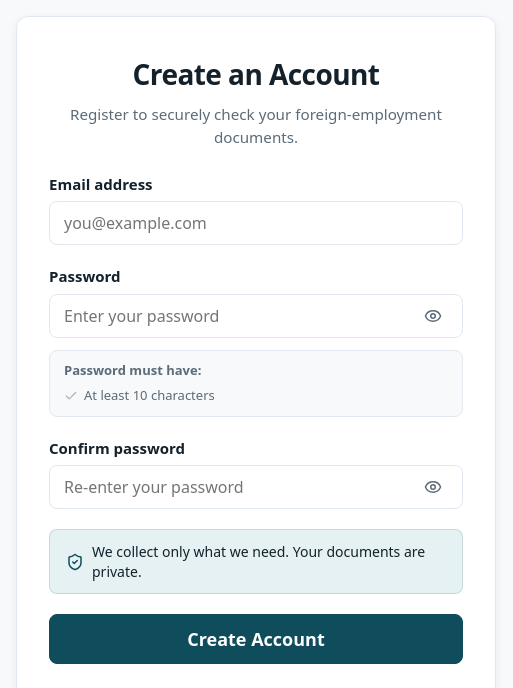
RegisterPage validation › shows an error when password is less than 10 characters
Type "applicant@example.com" into the field labelled "Email address" at (256, 223), box [49,201,463,245]
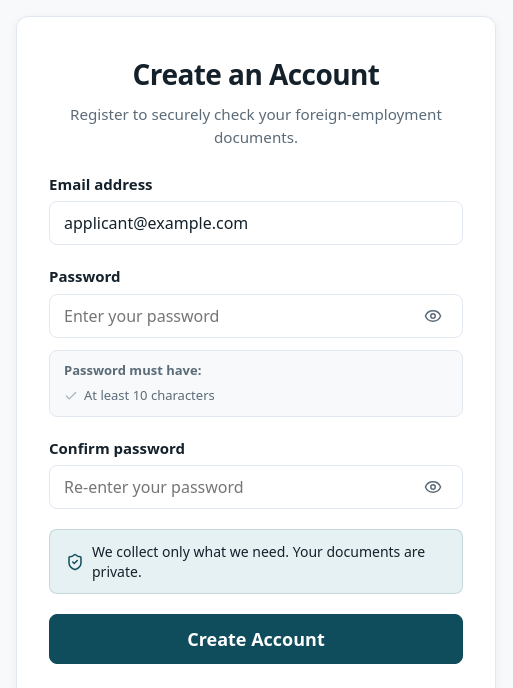
Type "short" into the password field labelled "Password" at (256, 316), box [49,294,463,338]
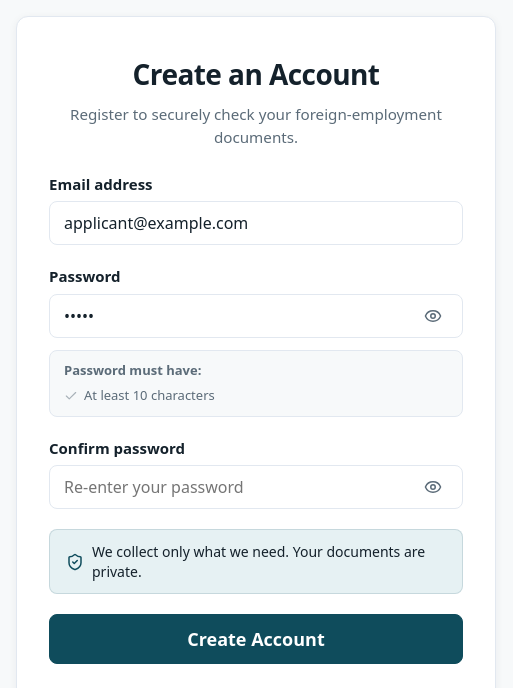
Type "short" into the password field labelled "Confirm password" at (256, 487), box [49,465,463,509]
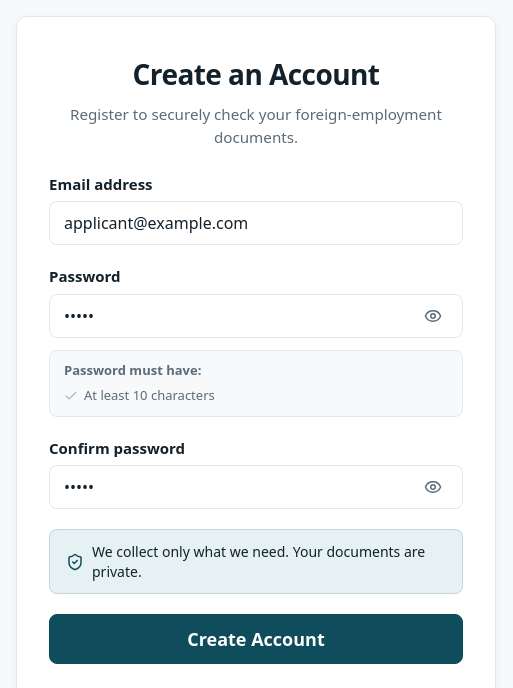
Click the button "Create Account" at (256, 639), box [49,614,463,664]
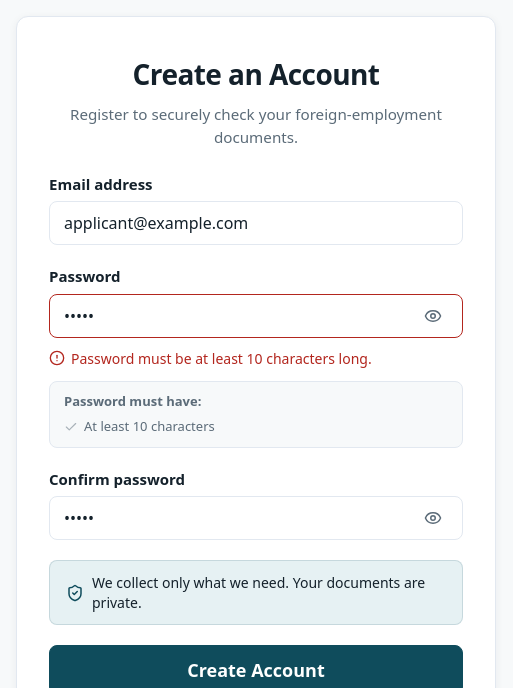
Expected: the text "Password must be at least 10 characters long." is shown, [71,348,372,369]
